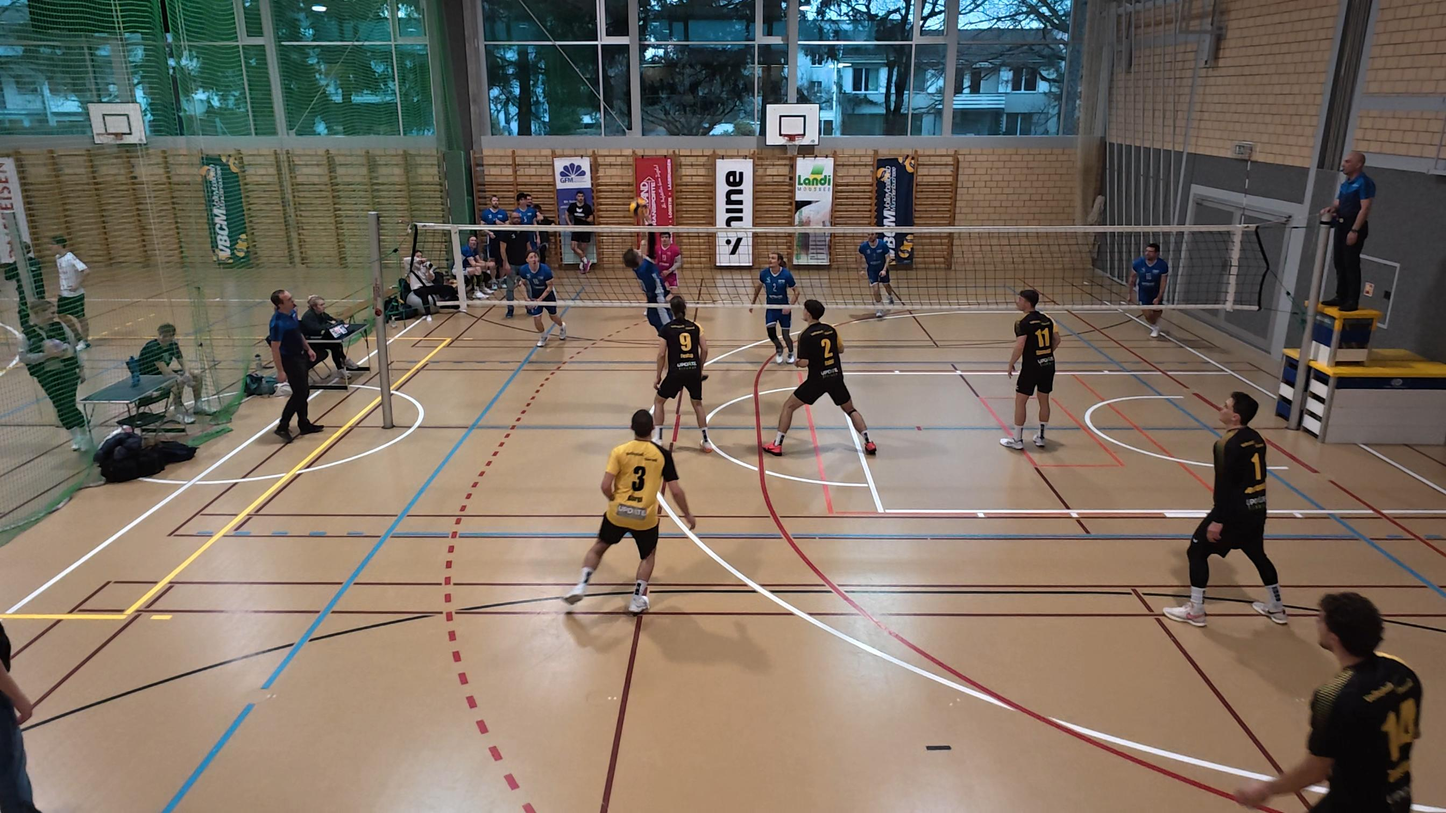alzata: (618, 218, 673, 386)
